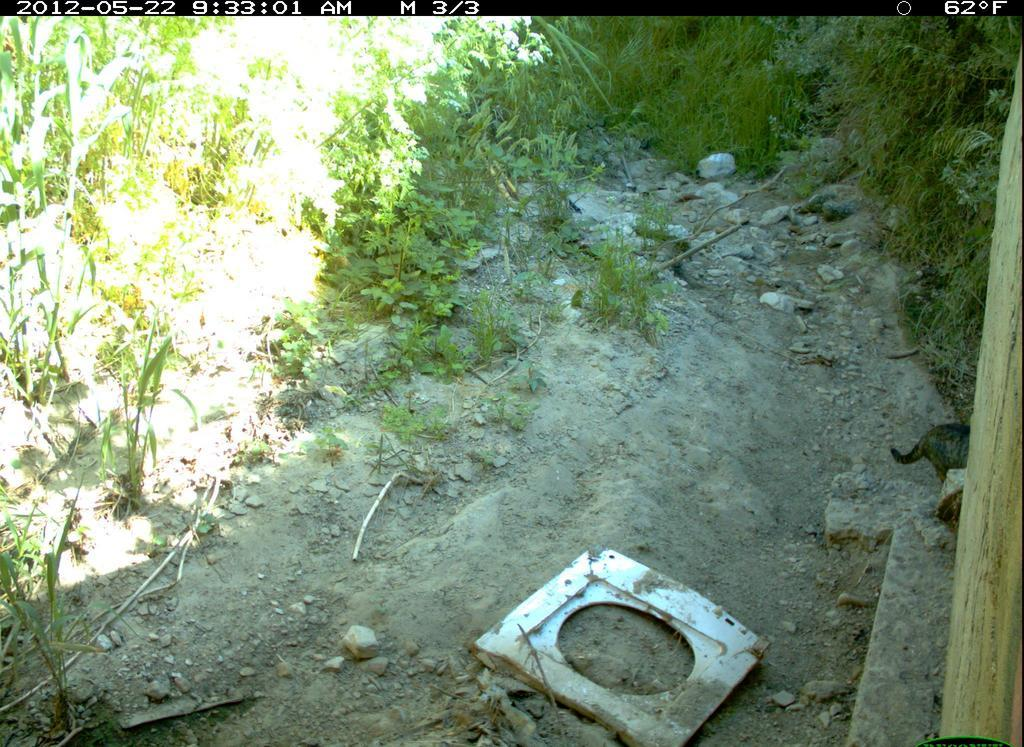cat: (856, 373, 1017, 504)
